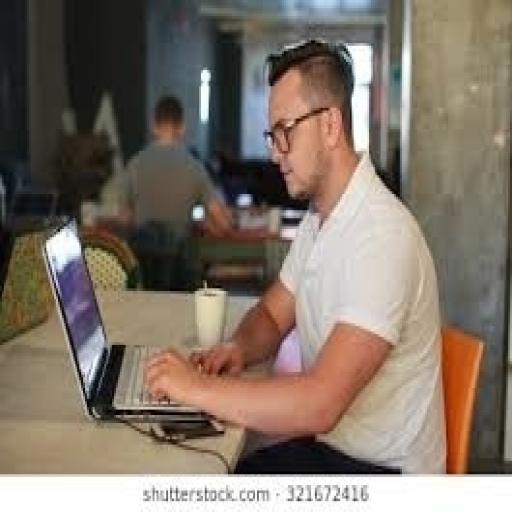using_laptop: (39, 213, 224, 428)
